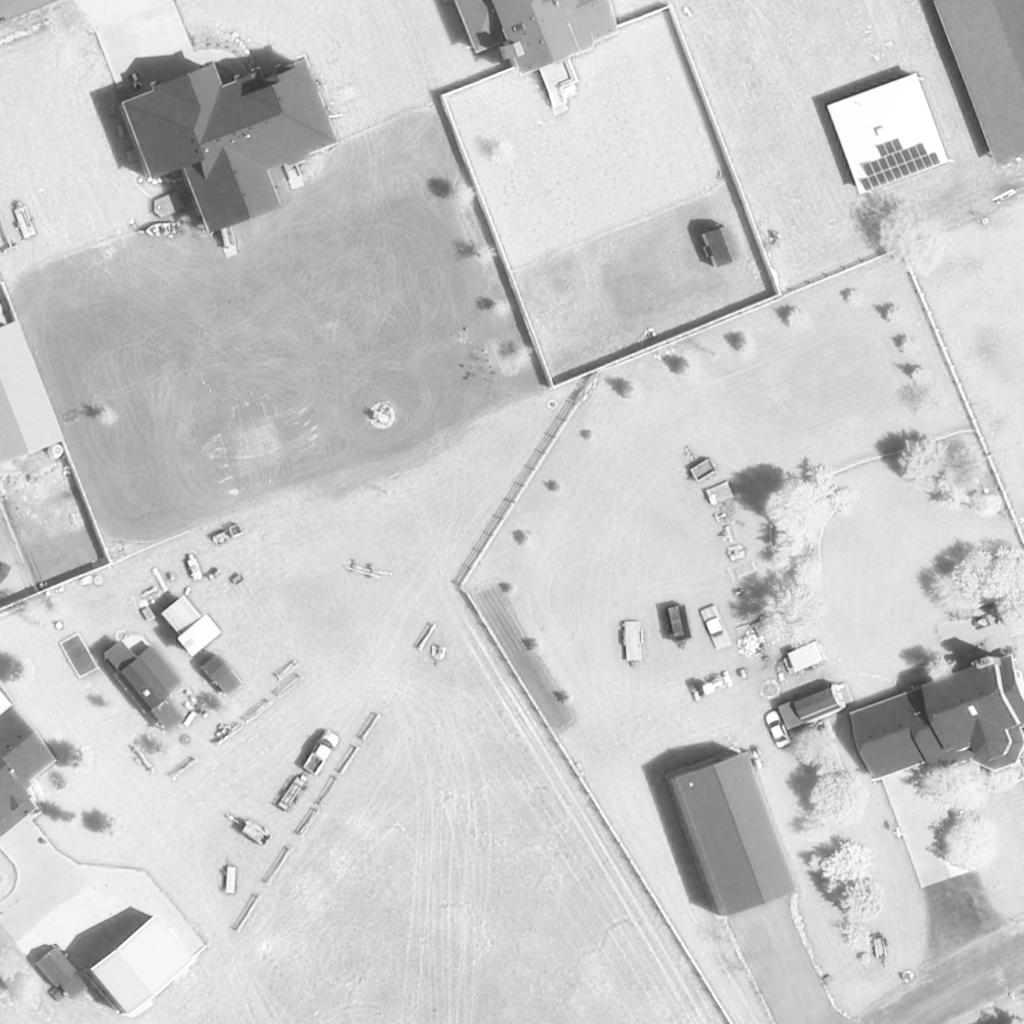vehicle: (300, 731, 342, 777), (696, 604, 732, 650), (688, 671, 734, 705), (761, 710, 791, 750)
